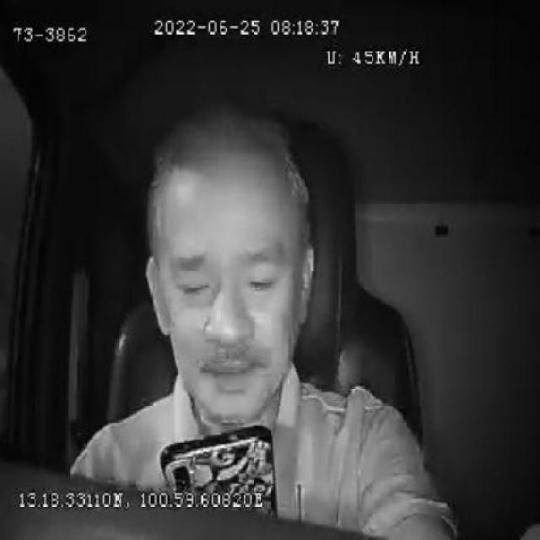phone: (161, 423, 276, 492)
